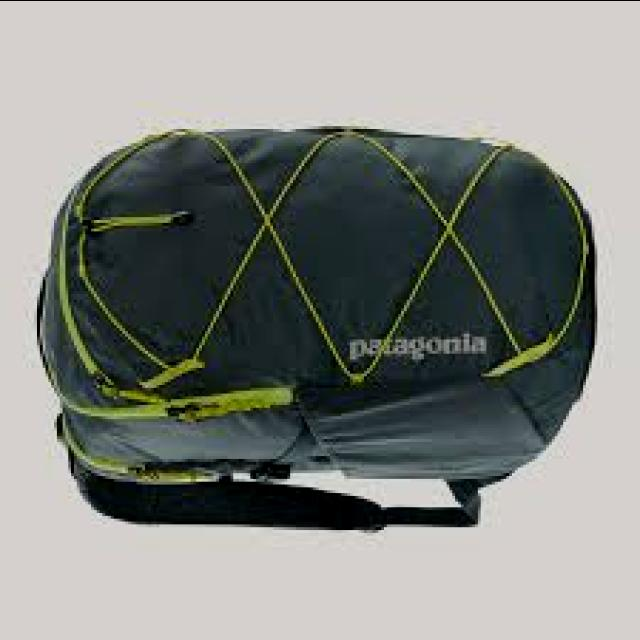backpack: (36, 126, 596, 533)
